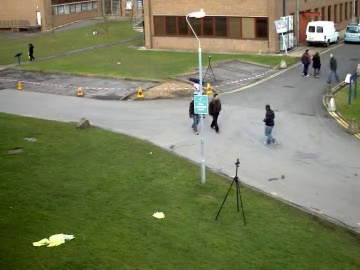person: (188, 93, 203, 133), (187, 94, 201, 135), (188, 92, 202, 133)
